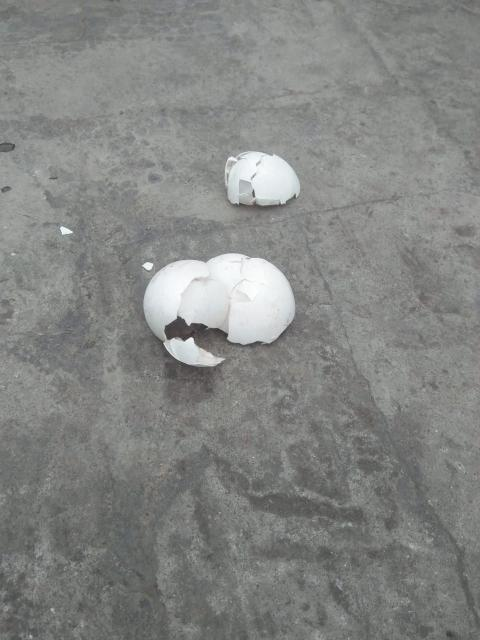Roto: (144, 253, 297, 370), (223, 150, 300, 207)
